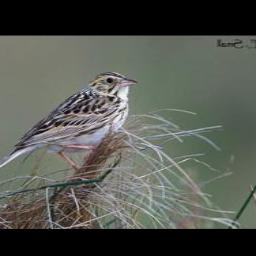Sparrow: (0, 70, 139, 177)
